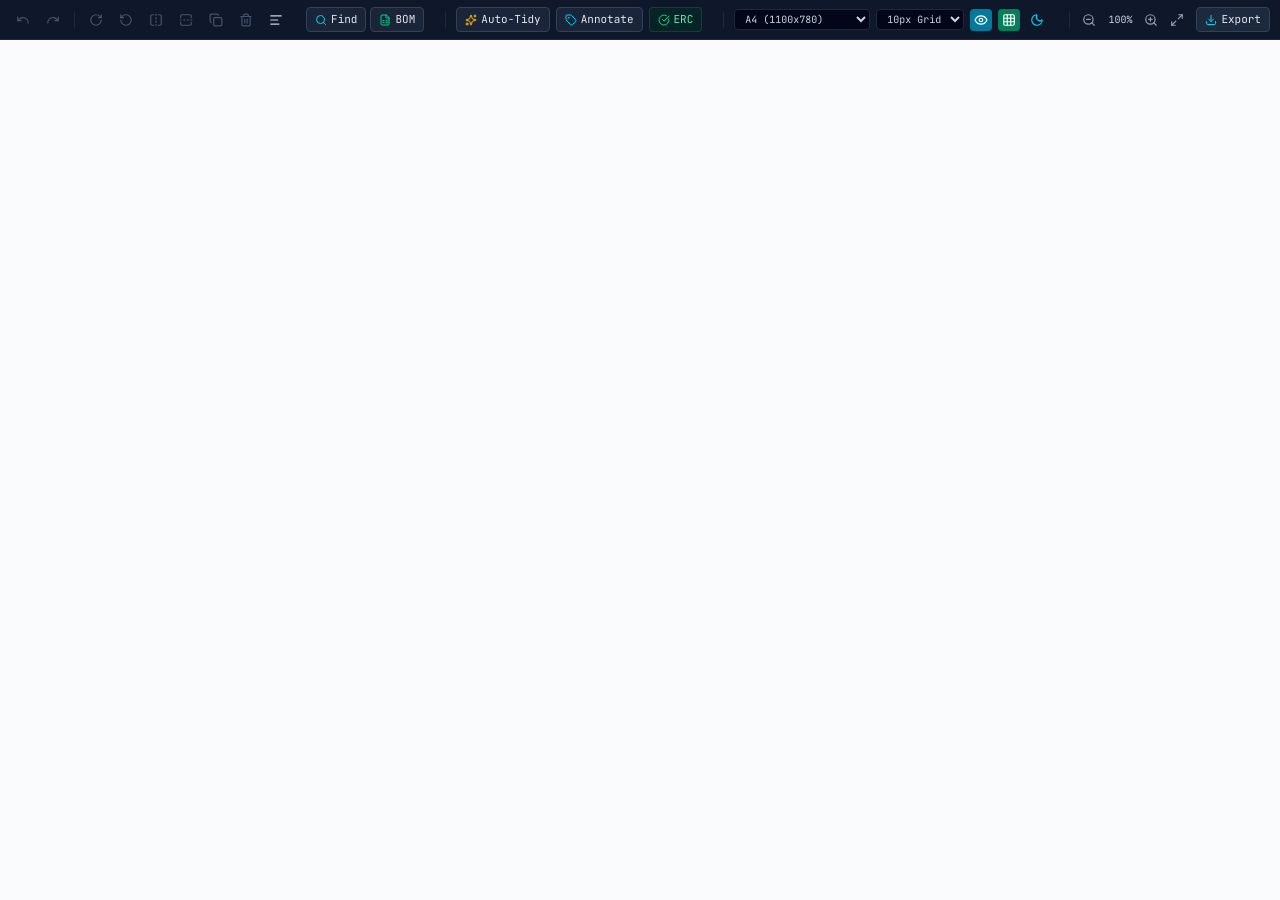
Test: GATE 2 & GATE 3: Professional EDA Schematic Capture & Vector Rendering Suite › Test 1: Export menu opens in SchematicTopBar, has visible options with z-[9999], and closes on outside click
Note: Click export button
Click the button with test id "action-export-menu": click(1233, 20) [1196,7,1270,32]
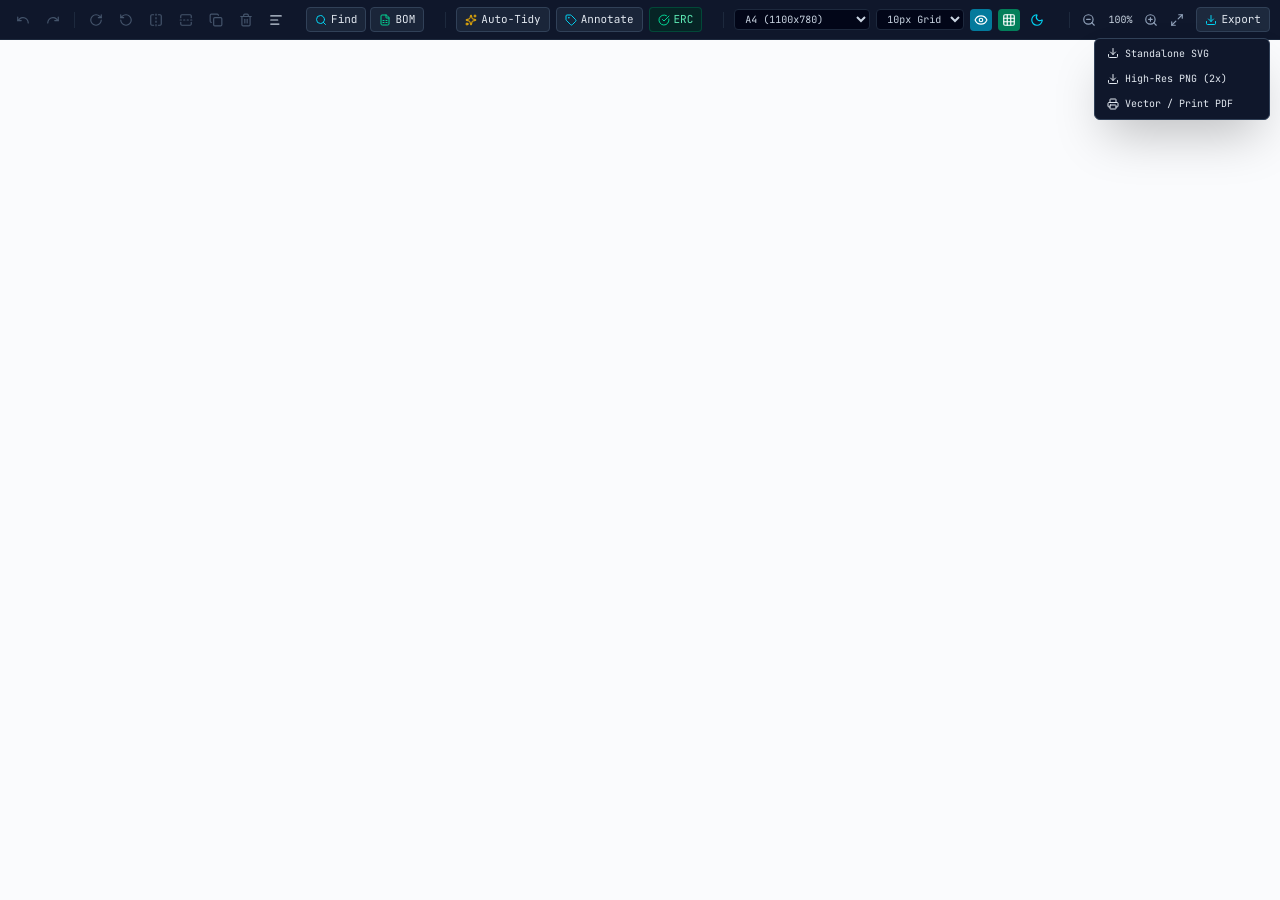
Now the element with test id "export-dropdown-menu" is shown, box [1094,38,1270,120]
Now the button with test id "export-svg-btn" is shown, box [1099,43,1265,64]
Now the button with test id "export-png-btn" is shown, box [1099,68,1265,90]
Note: Outside click closes dropdown
Press the mouse on the element that starts with "Find": (640, 450) [0,0,1279,899]
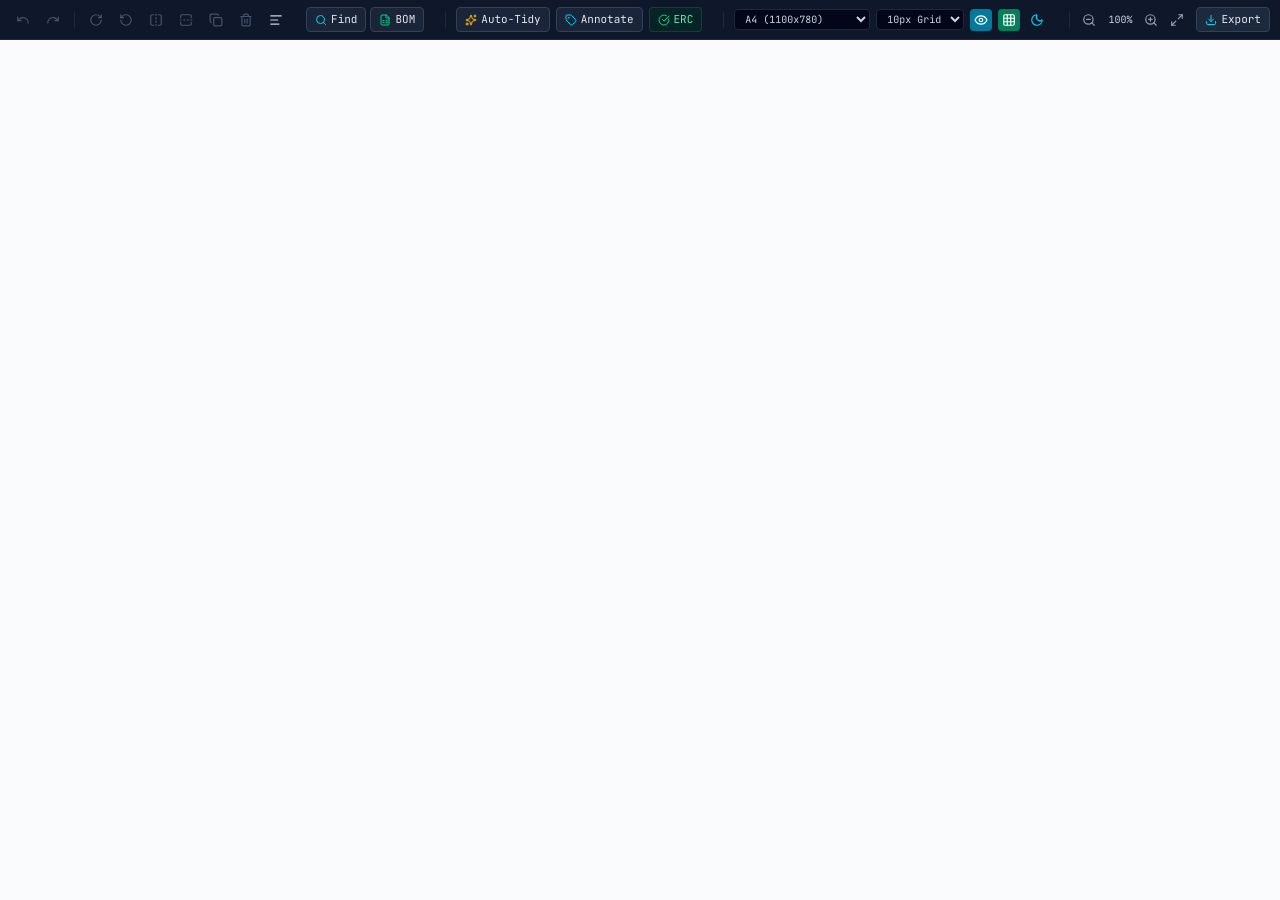
Now the element with test id "export-dropdown-menu" is gone
Note: Reopen and test Escape key closes dropdown
Click the button with test id "action-export-menu": click(1233, 20) [1196,7,1270,32]
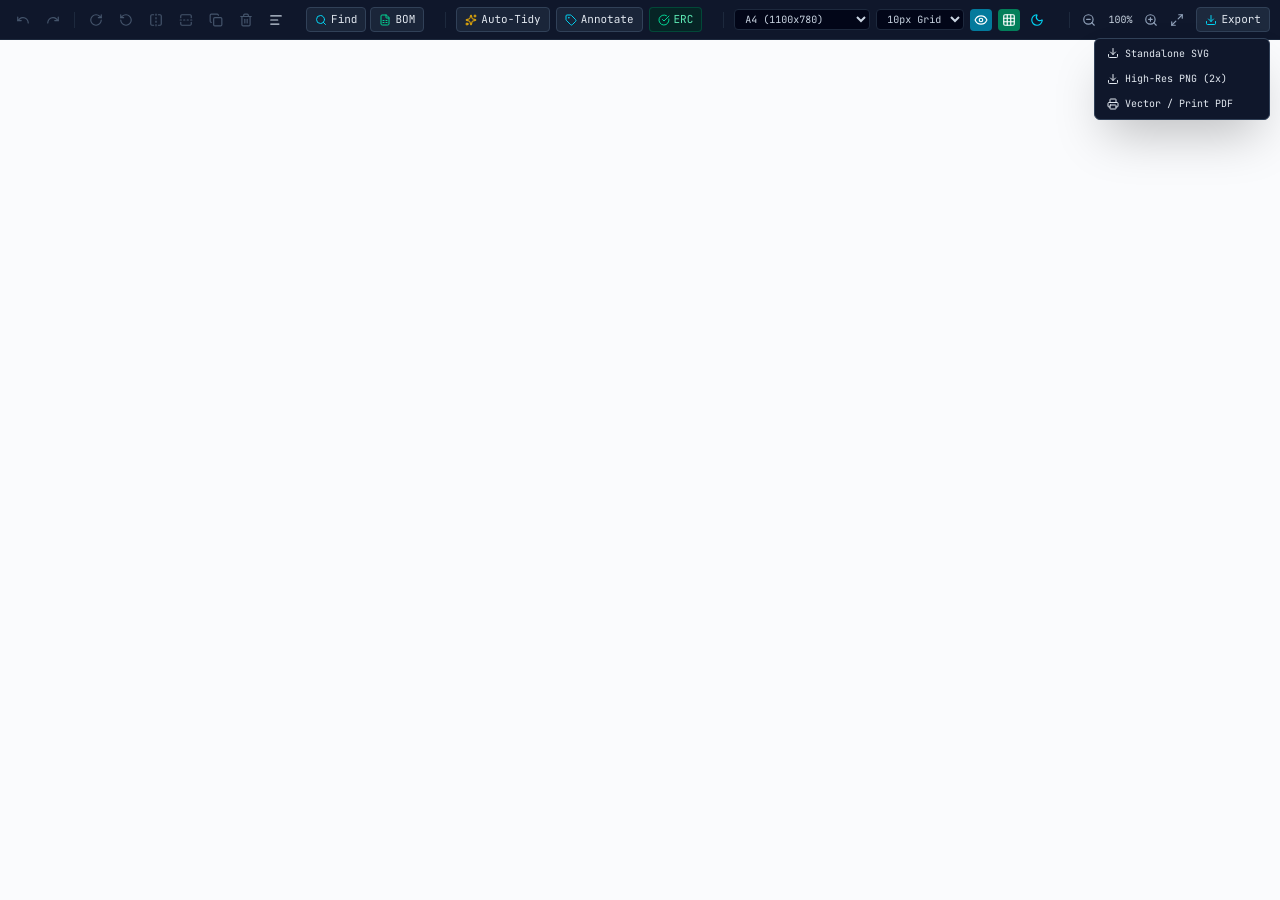
Now the element with test id "export-dropdown-menu" is shown, box [1094,38,1270,120]
Press Escape
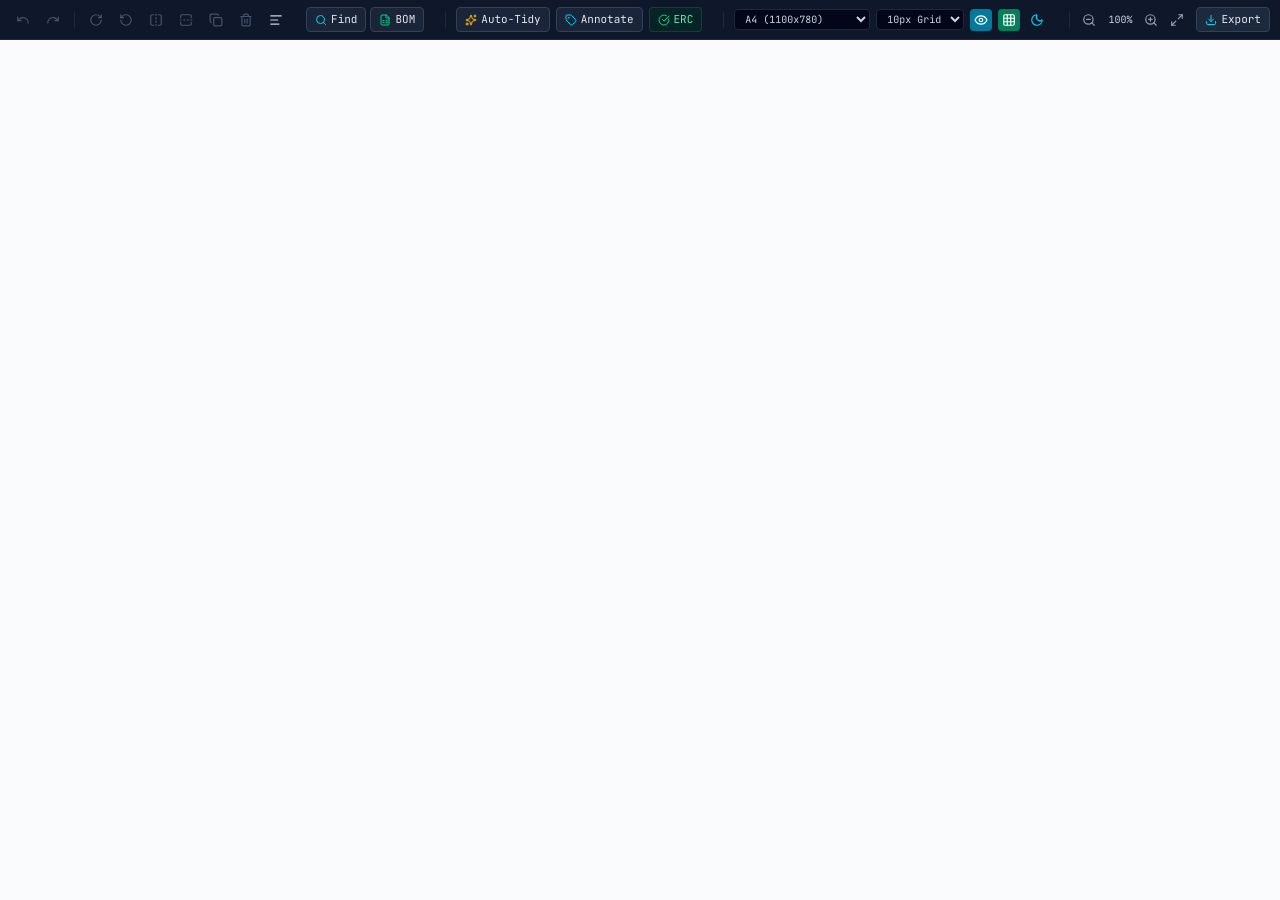
Now the element with test id "export-dropdown-menu" is gone
